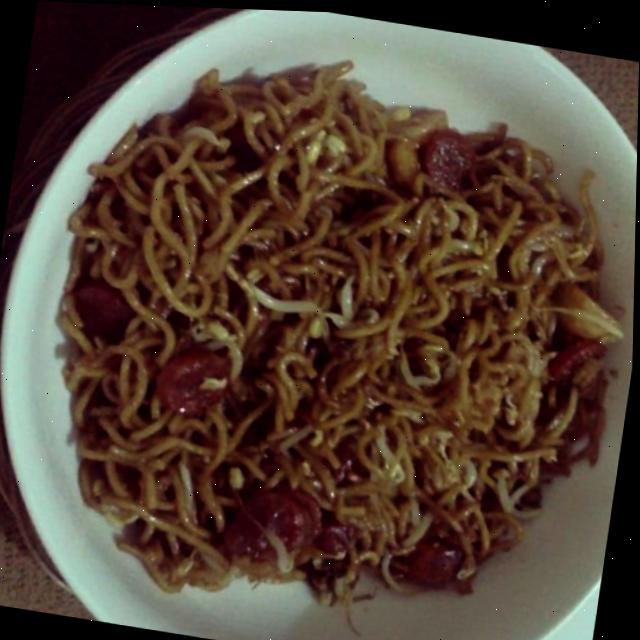面条主食: (5, 3, 640, 640)
